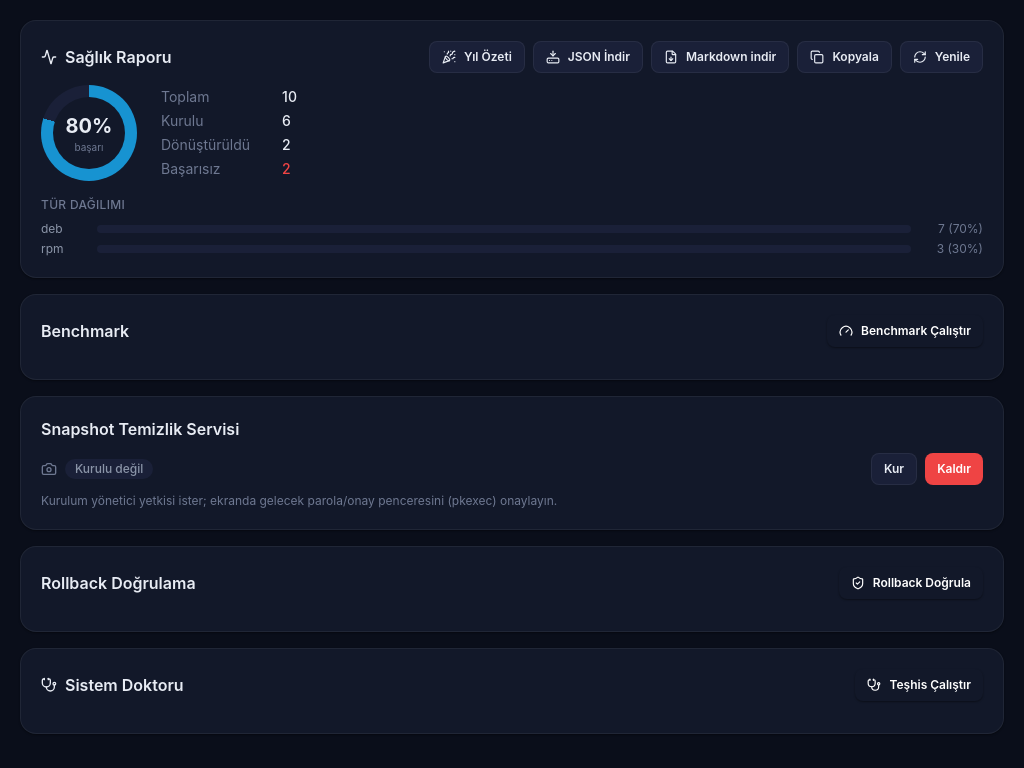
Scenario: Reports page › copies the Markdown report to the clipboard (Faz 10)
This screenshot has width=1024, height=768.
Check: the text "80%" is shown, box [66,112,112,140]
Click the button "Kopyala" at (845, 57), box [797,41,892,73]
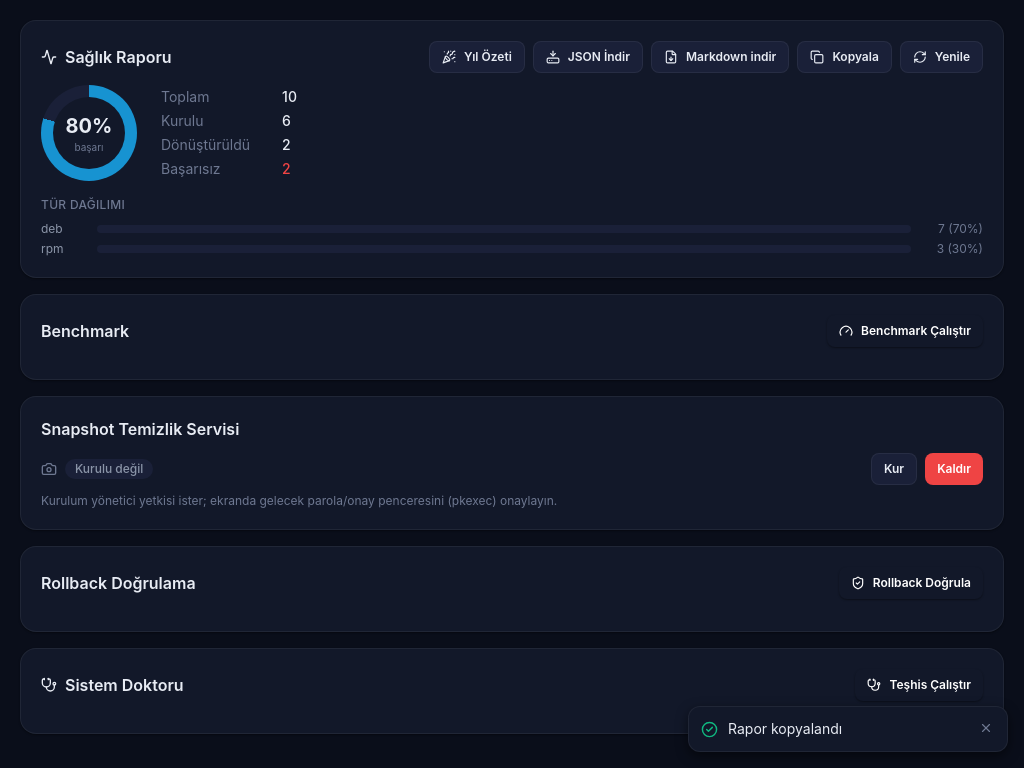
Check: the text "Rapor kopyalandı" is shown, box [728,720,842,737]
